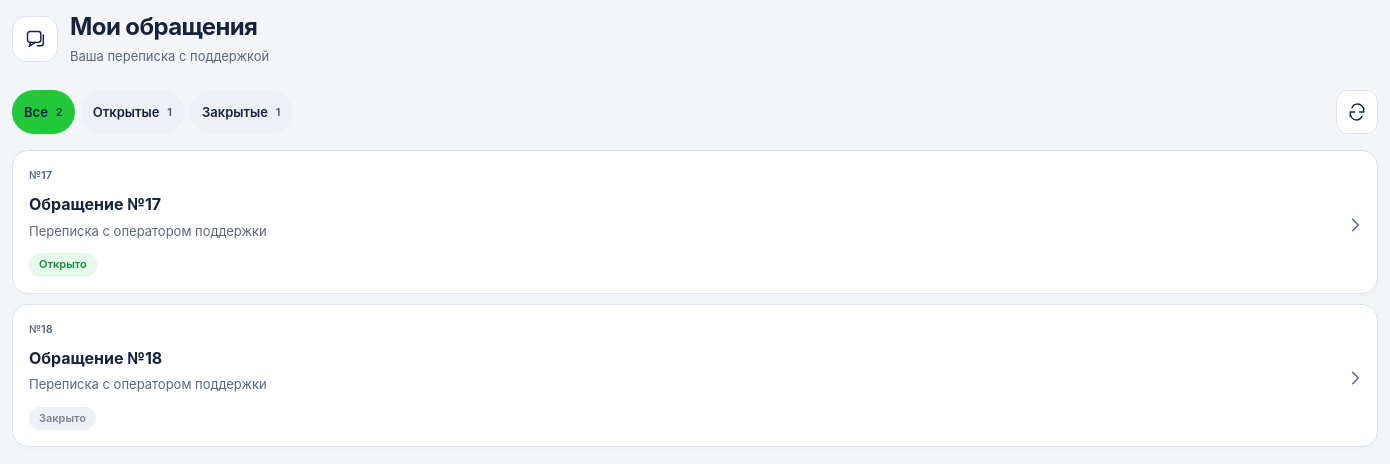
Test: appeal filters and access actions › filters loaded appeals by real API states
The image size is (1390, 464).
Check: the button "№17 Обращение №17 Переписка с оператором поддержки Открыто" is shown, box [12,150,1378,294]
Click the button "Закрытые 1".
click(241, 112)  # box [190,90,292,134]
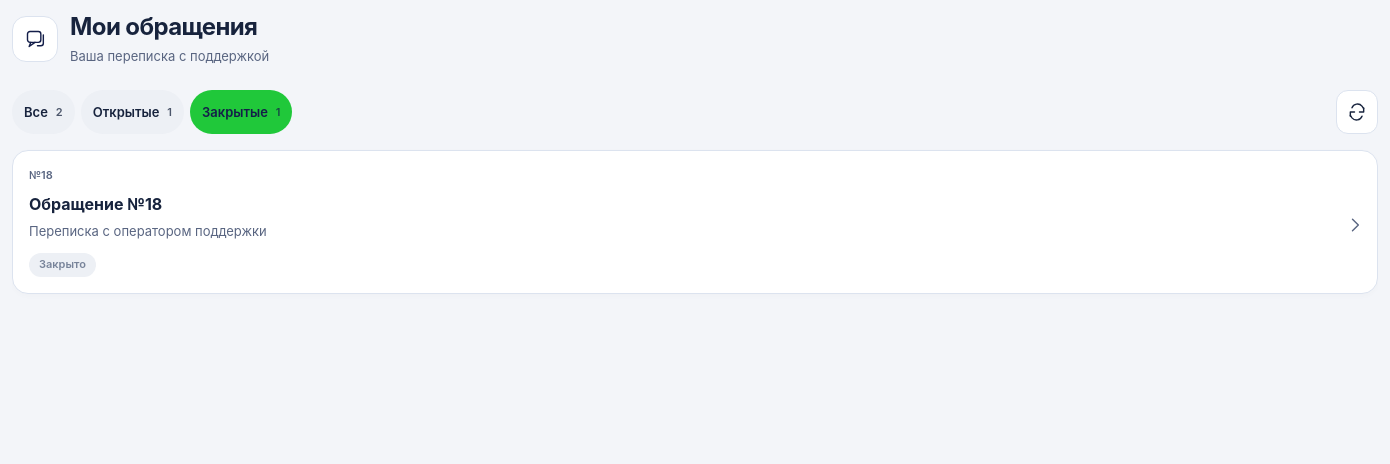
Check: the button "№18 Обращение №18 Переписка с оператором поддержки Закрыто" is shown, box [12,150,1378,294]
Check: the button "Обращение №17" is gone
